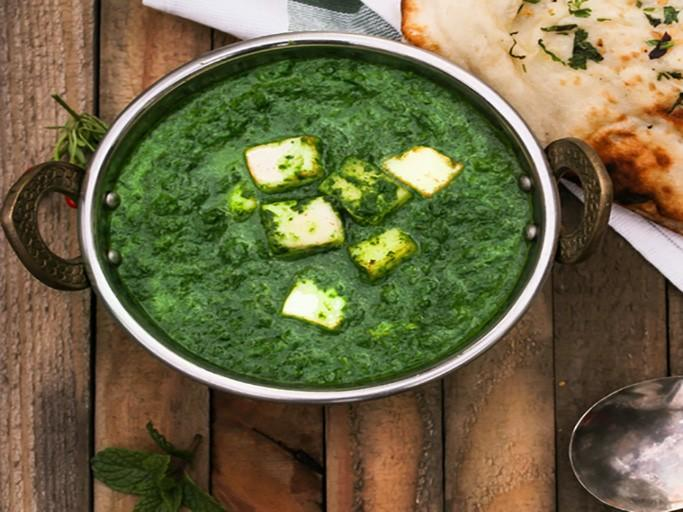PalakPaneer: (108, 46, 546, 389)
